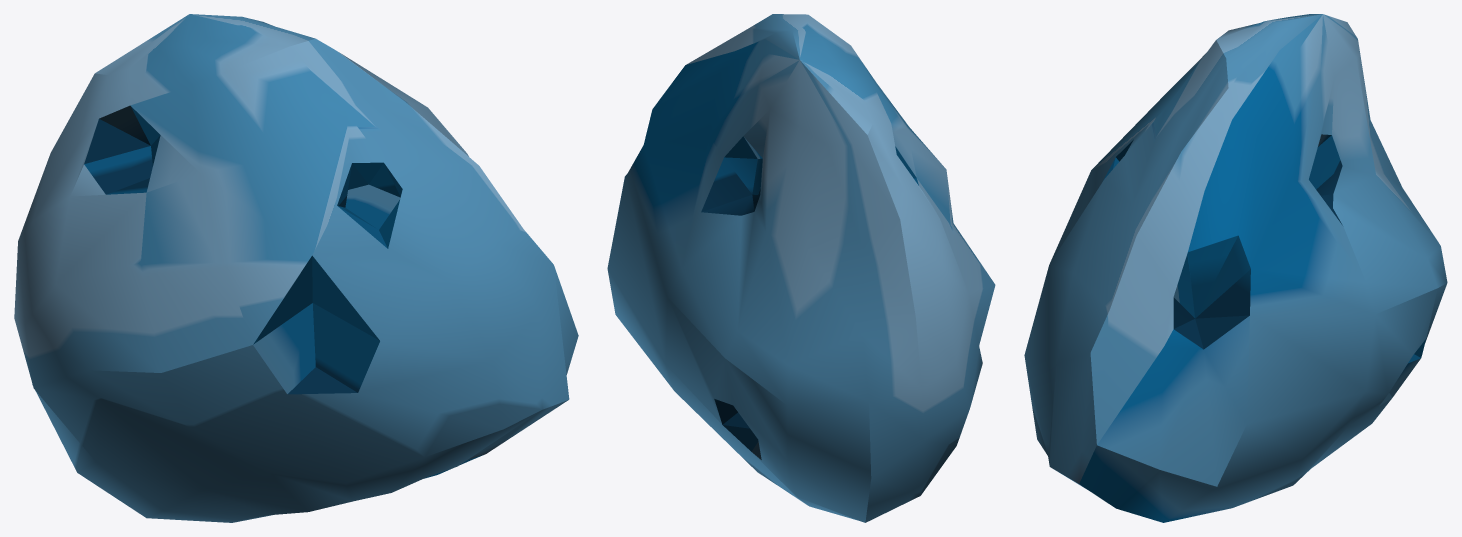
Rendered from space1.gltf.
3 views of the same model, side by side, from view 1: azimuth 30°, elevation 25°; view 2: azimuth 150°, elevation 25°; view 3: azimuth 270°, elevation 25° (orthographic). The views are drawn at different scales.
Parts seen in each view (by area): view 1: asteroid; view 2: asteroid; view 3: asteroid.
Part boxes in pixels (x1,y1,x2,y2): asteroid: [14, 14, 578, 522]; asteroid: [607, 14, 995, 522]; asteroid: [1024, 14, 1447, 522].
Size of what is drawn, in the model's own units: 1.3 by 1.36 by 1.1.
Materials: 1 (1 with a texture image).
